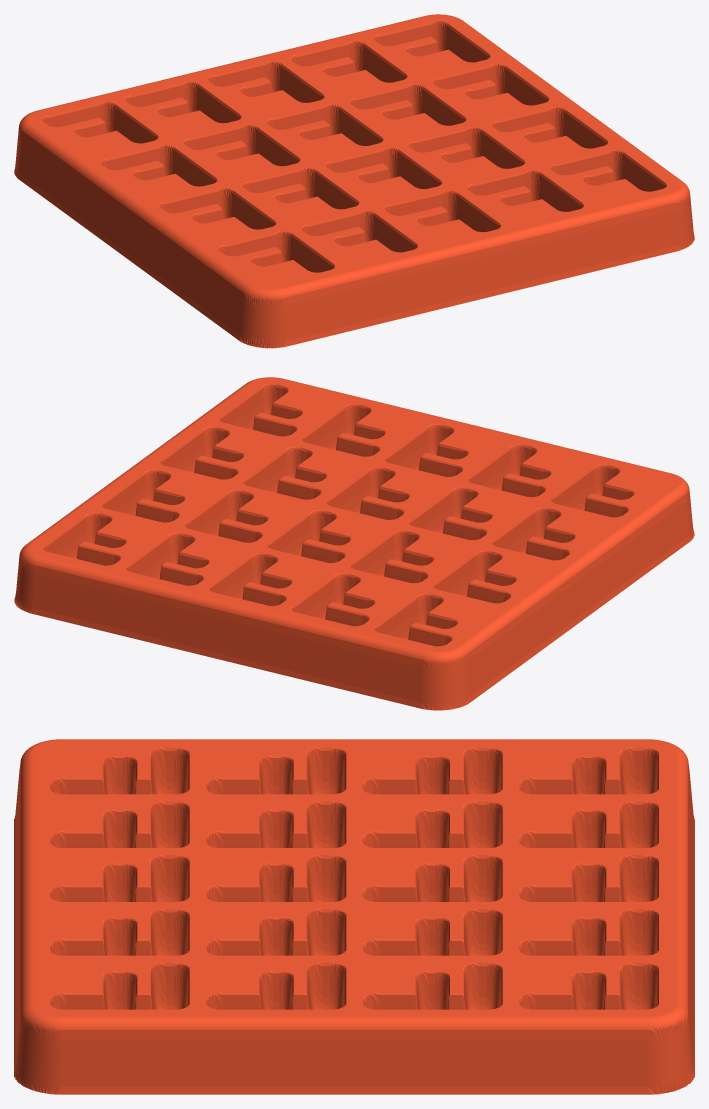
The model's file is mold.glb.
The picture shows the model from 3 angles, top to bottom: view 1: azimuth 30°, elevation 25°; view 2: azimuth 150°, elevation 25°; view 3: azimuth 270°, elevation 25°; orthographic projection. The views are drawn at different scales.
Visible parts, largest first — view 1: geometry_0; view 2: geometry_0; view 3: geometry_0.
Boxes of the visible parts, <box> form: geometry_0: <box>14,14,694,348</box>; geometry_0: <box>14,377,694,710</box>; geometry_0: <box>14,739,694,1094</box>.
Size of the model in its own units: 0.1298 by 0.0145 by 0.1278.
